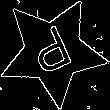P_SE: (26, 20, 80, 83)
